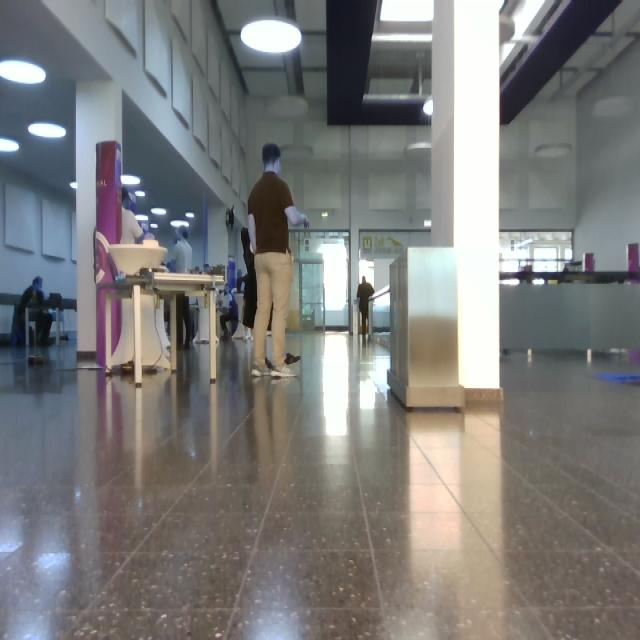door: (292, 232, 349, 329), (299, 260, 325, 330)
light bulb: (502, 1, 565, 76), (374, 1, 434, 52), (241, 18, 301, 52), (1, 61, 46, 85), (29, 124, 66, 138), (1, 138, 19, 152), (424, 98, 433, 117), (122, 176, 141, 185), (151, 208, 167, 214), (70, 181, 78, 190), (135, 190, 145, 197), (186, 212, 194, 218)
person: (249, 144, 309, 377), (12, 277, 53, 345), (167, 228, 192, 272), (357, 277, 375, 338), (220, 288, 239, 340), (178, 294, 190, 349)
pillar: (432, 1, 501, 390), (77, 81, 122, 352)
table: (99, 233, 224, 382)
tiled floor: (1, 336, 640, 640)
trash bin: (391, 248, 463, 408)
